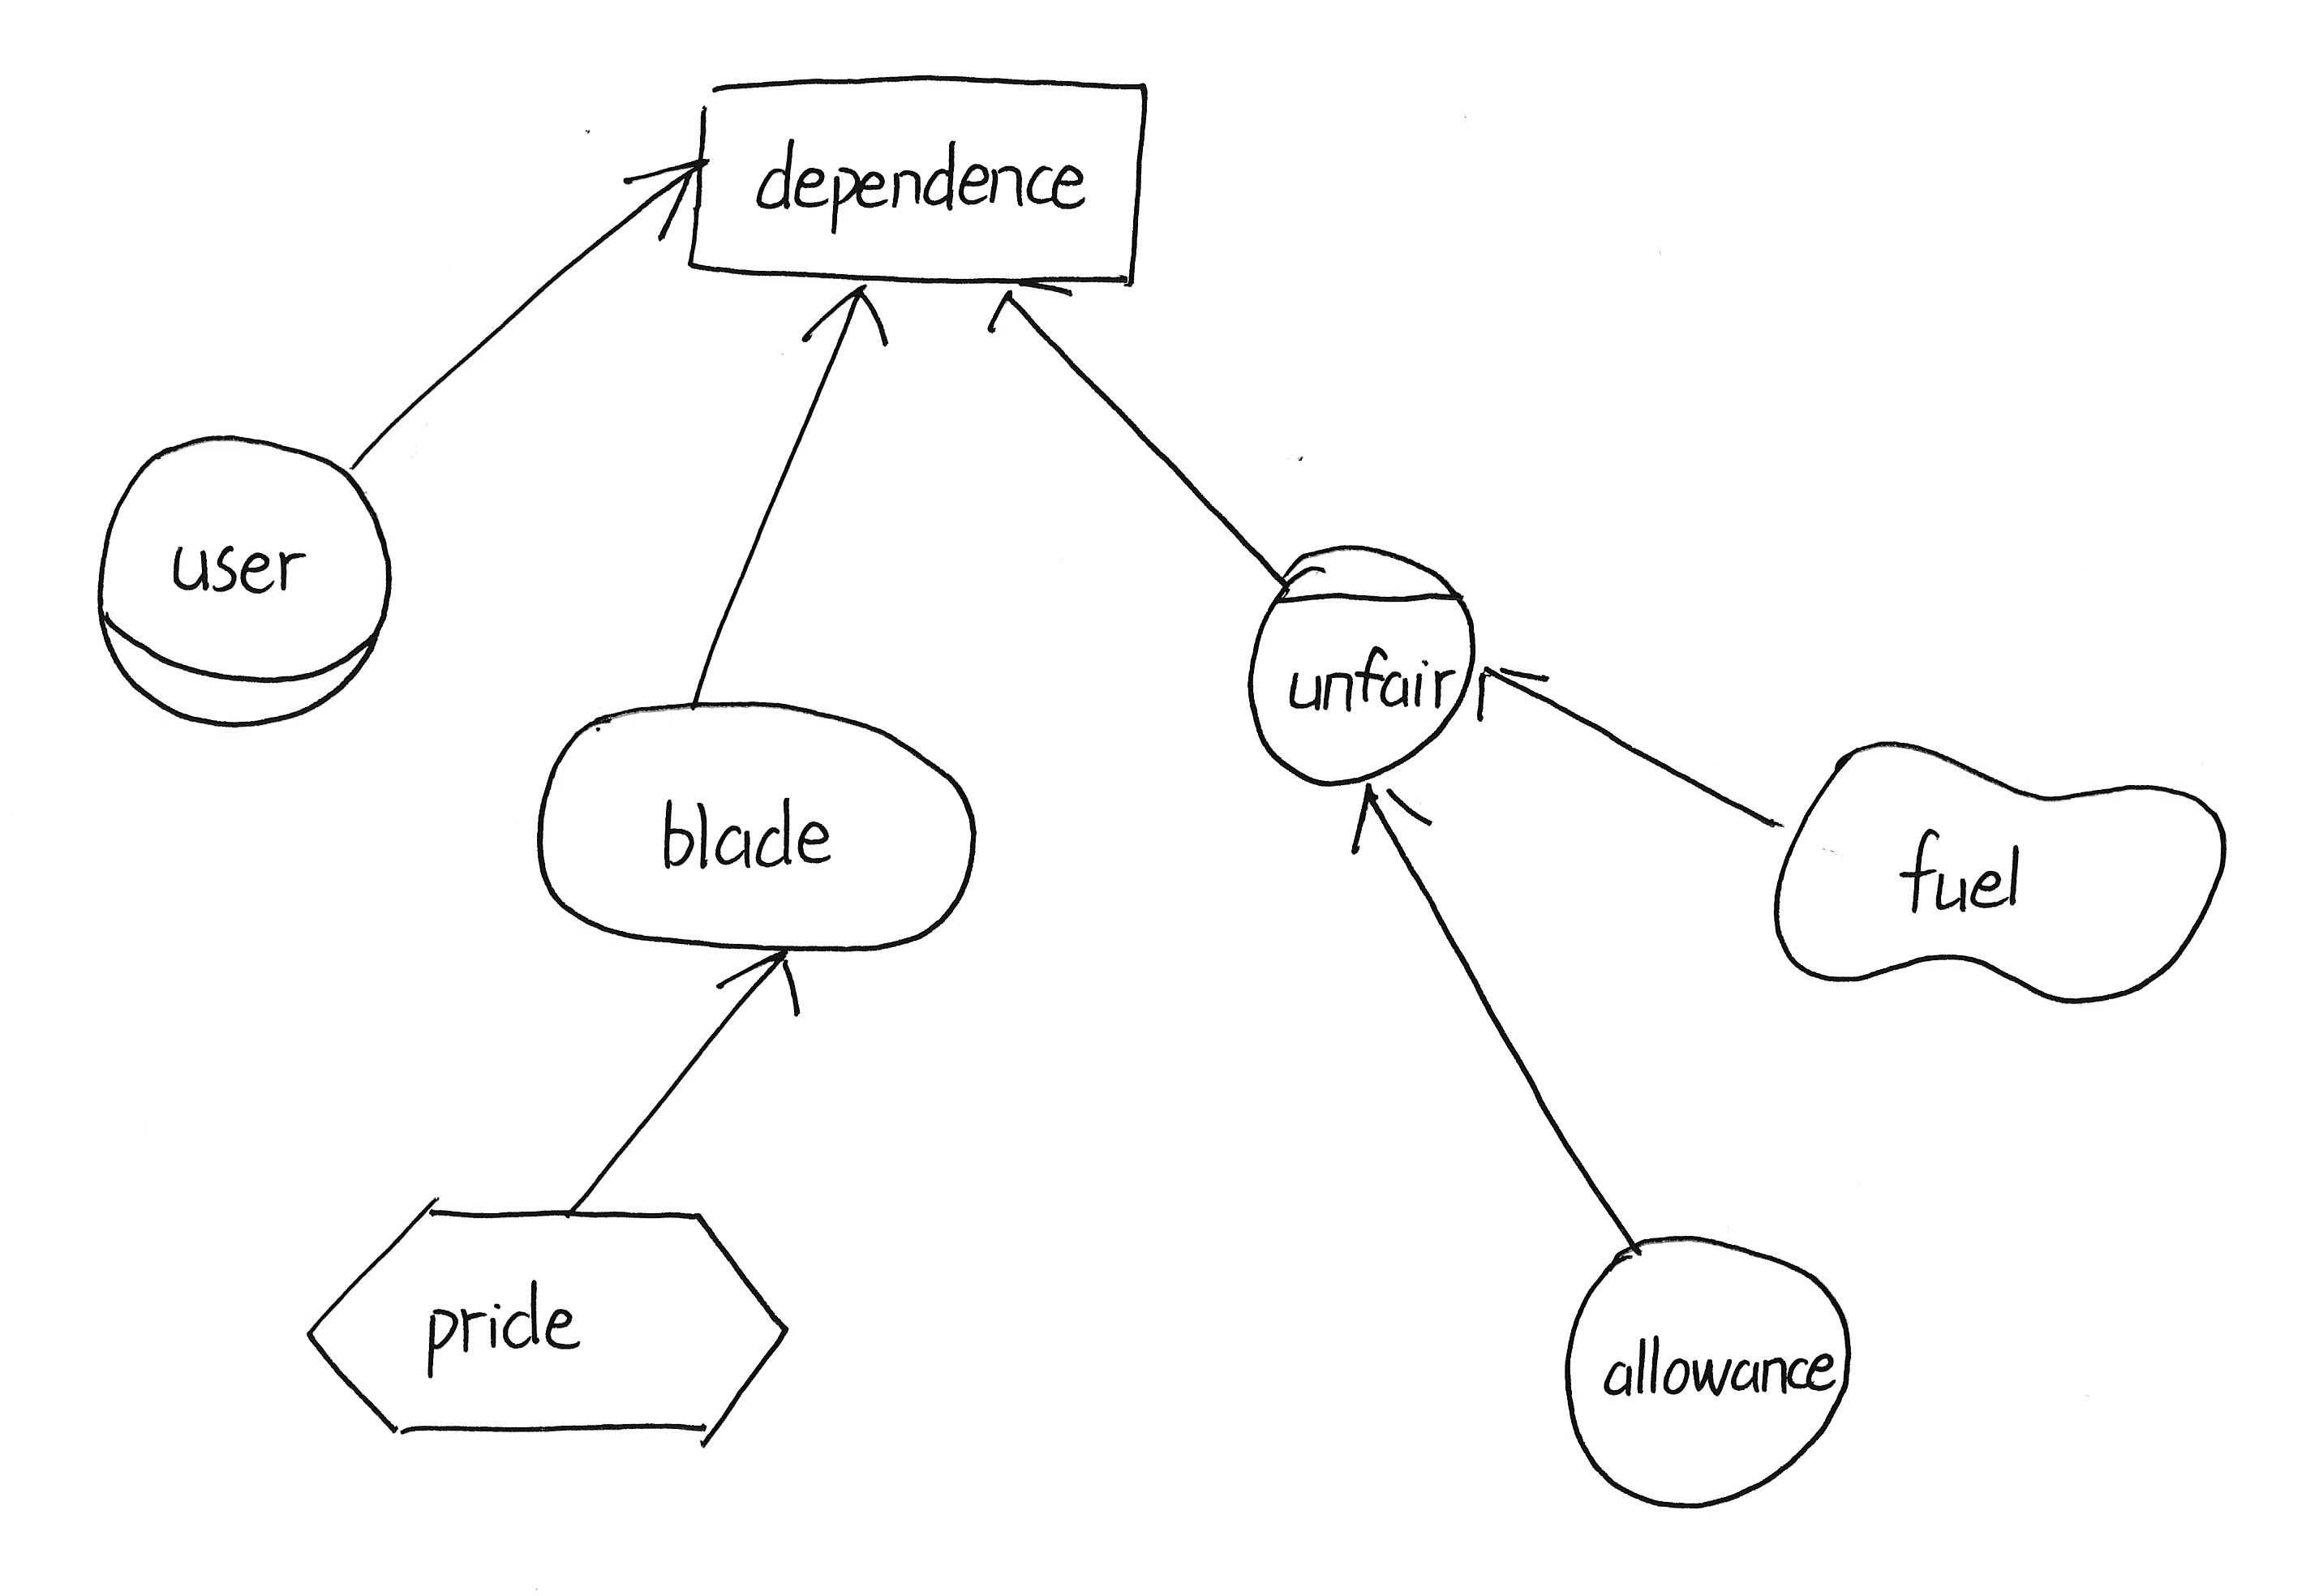actor: (1552, 1221, 1868, 1526)
agent: (1228, 528, 1501, 802)
arrow: (617, 137, 730, 255), (1334, 772, 1448, 865), (793, 270, 899, 368), (705, 942, 821, 1031), (980, 261, 1080, 361), (1468, 655, 1565, 745)
goal: (516, 683, 990, 969)
quality: (1757, 719, 2252, 1022)
resource: (670, 55, 1184, 312)
role: (78, 416, 407, 747)
task: (280, 1182, 814, 1464)
